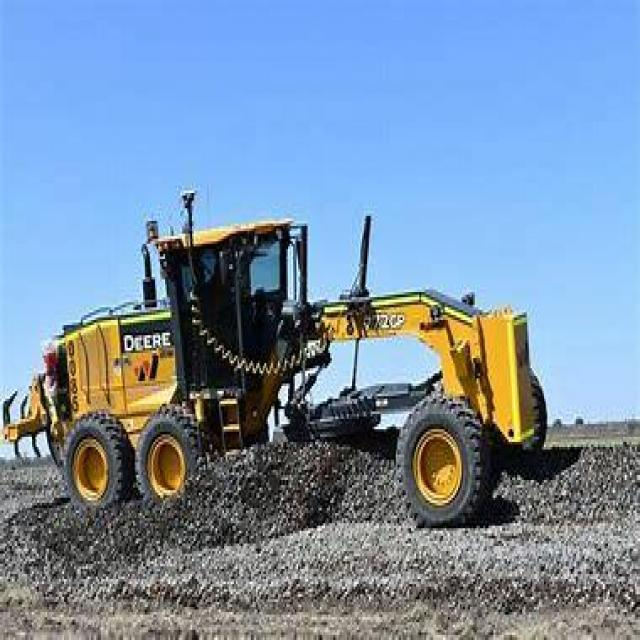Grader: (3, 211, 554, 531)
